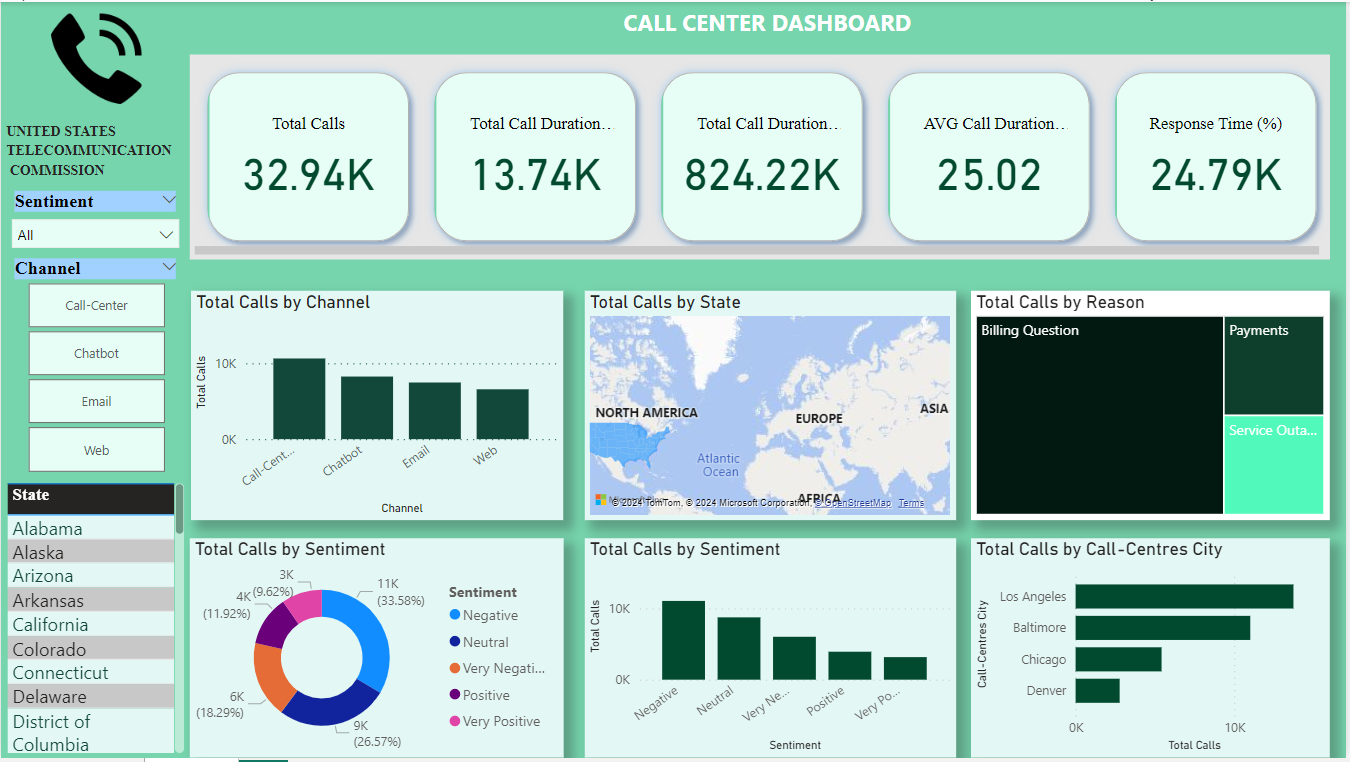

What the dashboard file says about the page in this screenshot:
{"tool":"powerbi","page":{"name":"Page 1","canvas":[1280,720],"ordinal":0},"visuals":[{"type":"textbox","box":[179.7,0,1099.9,54.3],"z":0},{"type":"textbox","box":[0,0,179.7,720],"z":1000},{"type":"cardVisual","fields":{"Data":["Call Center_Call Center.Total Calls","Call Center_Call Center.Total Call Duration (Hr)","Call Center_Call Center.Total Call Duration (Mins)","Call Center_Call Center.AVG Call Duration (Mins)","Call Center_Call Center.Response Time (%)"]},"box":[179.7,49.4,1085.4,195.4],"z":2000},{"type":"columnChart","fields":{"Y":["Call Center_Call Center.Total Calls"],"Category":["Call Center_Call Center.Channel"]},"box":[180.9,275,354.6,218.3],"z":3000},{"type":"filledMap","fields":{"Category":["Call Center_Call Center.State"]},"box":[556,275,353.4,218.3],"z":4000},{"type":"treemap","fields":{"Details":["Call Center_Call Center.Reason"],"Values":["Call Center_Call Center.Total Calls"]},"box":[923.8,275,341.3,218.3],"z":5000},{"type":"donutChart","fields":{"Y":["Call Center_Call Center.Total Calls"],"Category":["Call Center_Call Center.Sentiment"]},"box":[179.7,510.2,355.8,208.6],"z":6000},{"type":"columnChart","fields":{"Category":["Call Center_Call Center.Sentiment"],"Y":["Call Center_Call Center.Total Calls"]},"box":[556,510.2,353.4,208.6],"z":7000},{"type":"clusteredBarChart","fields":{"Y":["Call Center_Call Center.Total Calls"],"Category":["Call Center_Call Center.Call-Centres City"]},"box":[923.8,510.2,341.3,208.6],"z":8000},{"type":"slicer","fields":{"Values":["Call Center_Call Center.Channel"]},"box":[0,238.8,179.7,214.7],"z":9000},{"type":"tableEx","fields":{"Values":["Call Center_Call Center.State"]},"box":[0,453.5,179.7,266.5],"z":10000},{"type":"slicer","fields":{"Values":["Call Center_Call Center.Sentiment"]},"box":[0,174.9,179.7,63.9],"z":11000},{"type":"textbox","box":[0,108.5,180.9,66.3],"z":12000},{"type":"image","box":[4.8,0,171.3,108.5],"z":13000}]}

Visuals, with their boxes in screenshot pixels (x1, y1, x2, y2), scaled from the page's 1280x720 canvas onto the 1350x762 screenshot:
textbox: <region>190, 0, 1349, 57</region>
textbox: <region>0, 0, 190, 761</region>
cardVisual - Call Center_Call Center.Total Calls x Call Center_Call Center.Total Call Duration (Hr): <region>190, 52, 1334, 259</region>
columnChart - Call Center_Call Center.Total Calls x Call Center_Call Center.Channel: <region>191, 291, 565, 522</region>
filledMap - Call Center_Call Center.State: <region>586, 291, 959, 522</region>
treemap - Call Center_Call Center.Reason x Call Center_Call Center.Total Calls: <region>974, 291, 1334, 522</region>
donutChart - Call Center_Call Center.Total Calls x Call Center_Call Center.Sentiment: <region>190, 540, 565, 761</region>
columnChart - Call Center_Call Center.Sentiment x Call Center_Call Center.Total Calls: <region>586, 540, 959, 761</region>
clusteredBarChart - Call Center_Call Center.Total Calls x Call Center_Call Center.Call-Centres City: <region>974, 540, 1334, 761</region>
slicer - Call Center_Call Center.Channel: <region>0, 253, 190, 480</region>
tableEx - Call Center_Call Center.State: <region>0, 480, 190, 761</region>
slicer - Call Center_Call Center.Sentiment: <region>0, 185, 190, 253</region>
textbox: <region>0, 115, 191, 185</region>
image: <region>5, 0, 186, 115</region>
